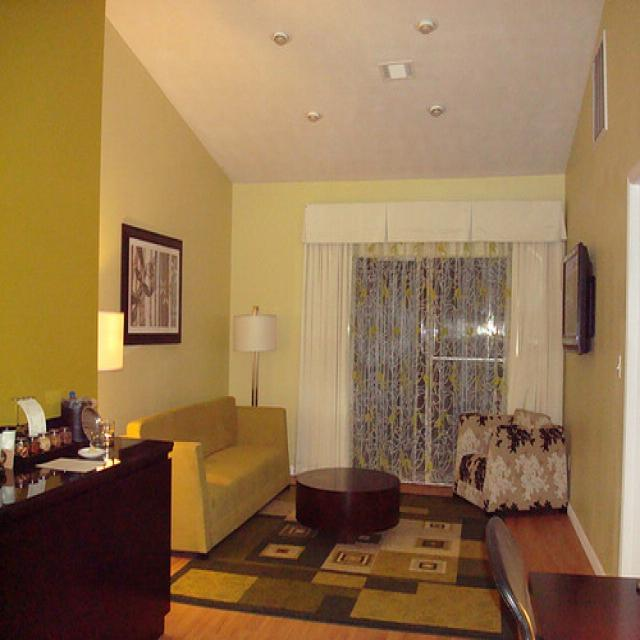chair: (452, 409, 570, 517), (488, 516, 538, 640)
dining table: (530, 575, 638, 632)
